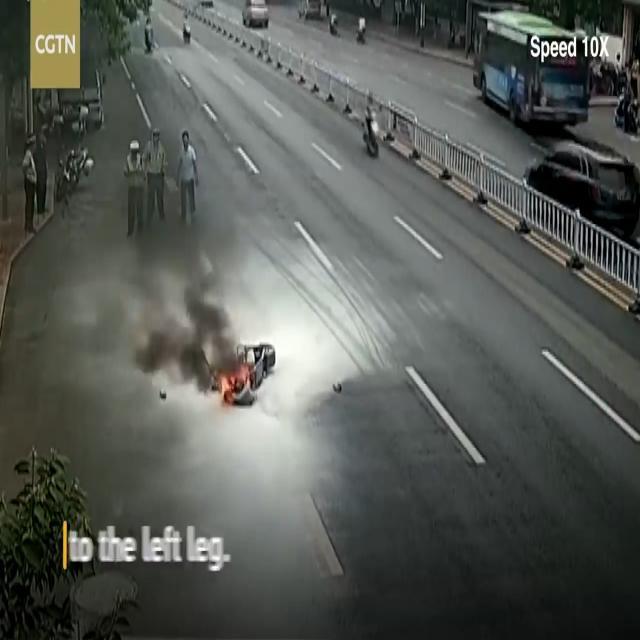Fire: (219, 367, 251, 400)
Smoke: (132, 274, 236, 392)
